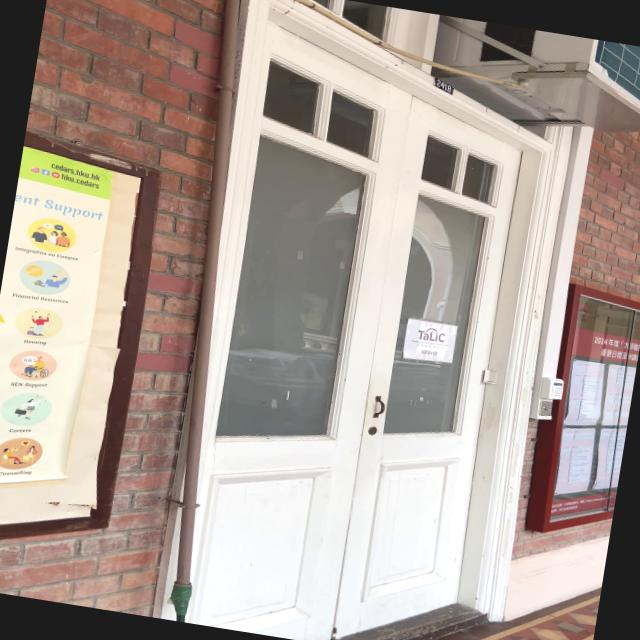room241b: (430, 74, 457, 98)
